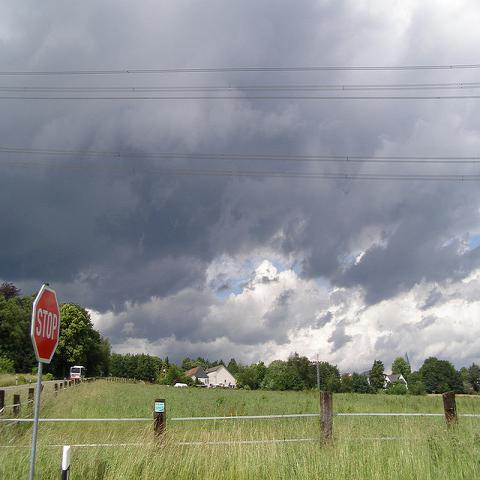bus: (70, 366, 86, 379)
car: (196, 384, 208, 388)
